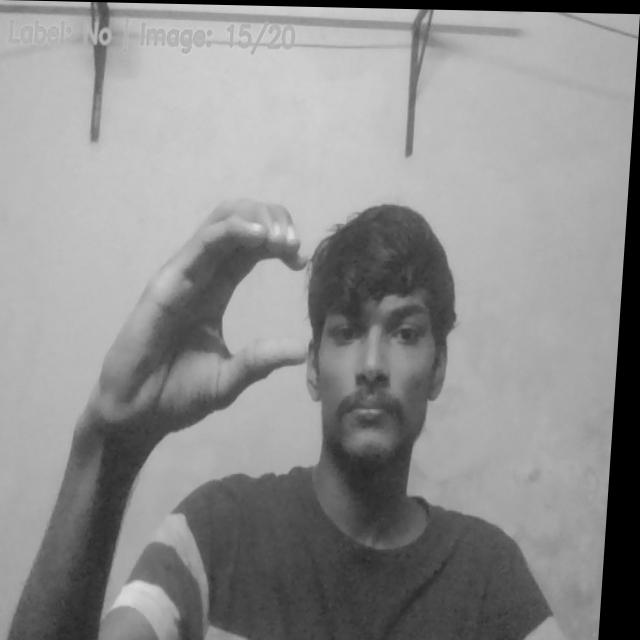No: (90, 191, 323, 447)
